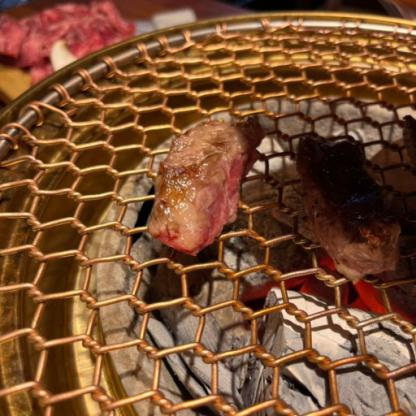Carne: (143, 97, 267, 256)
